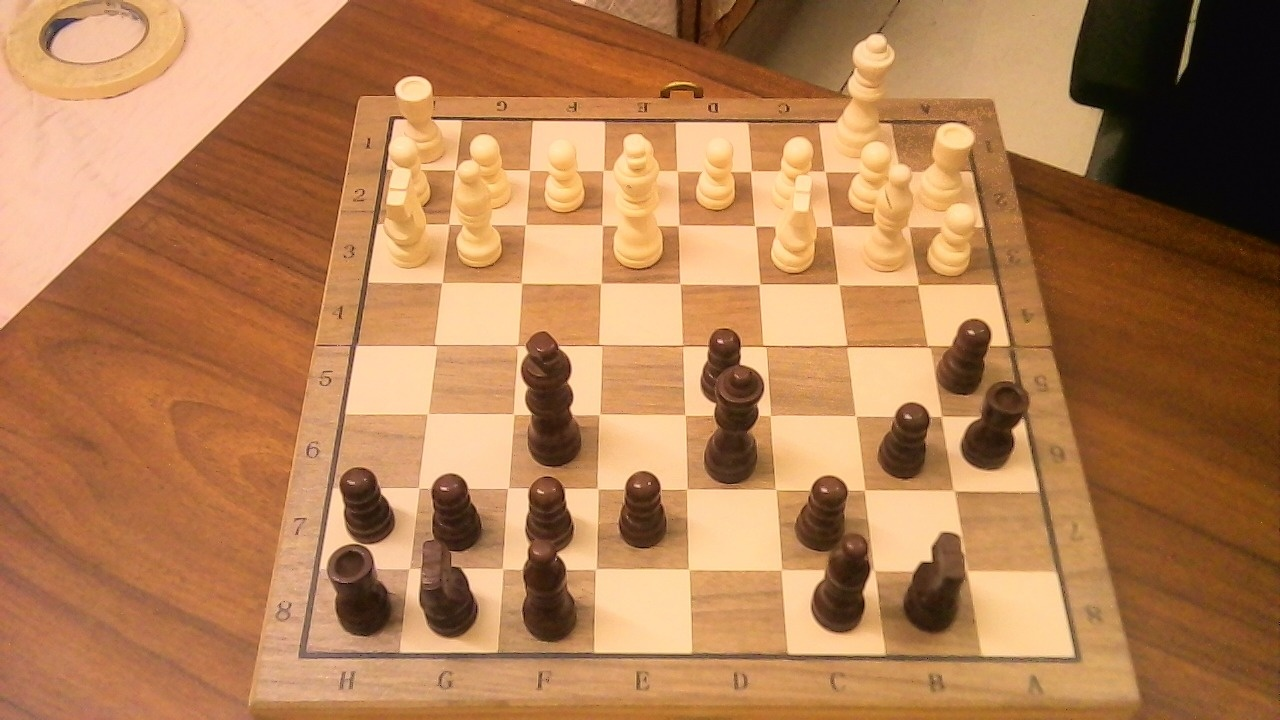B: (855, 154, 924, 278), (449, 148, 514, 271)
K: (606, 124, 674, 271)
N: (763, 163, 831, 278), (373, 191, 437, 275)
P: (841, 132, 905, 218), (923, 194, 986, 278), (458, 126, 518, 213), (764, 128, 822, 215), (535, 129, 591, 217), (688, 128, 744, 215), (384, 127, 437, 211)
Q: (828, 21, 901, 164)
R: (917, 111, 983, 217), (390, 67, 451, 167)
b: (803, 519, 886, 638), (508, 540, 589, 646)
k: (517, 321, 594, 468)
n: (411, 525, 488, 641), (898, 545, 978, 634)
p: (331, 456, 405, 544), (607, 459, 677, 551), (873, 389, 942, 482), (422, 462, 493, 551), (937, 306, 1001, 398), (522, 477, 576, 550), (803, 475, 853, 550), (700, 330, 745, 405)
q: (697, 353, 777, 487)
r: (954, 368, 1039, 475), (323, 533, 401, 639)
